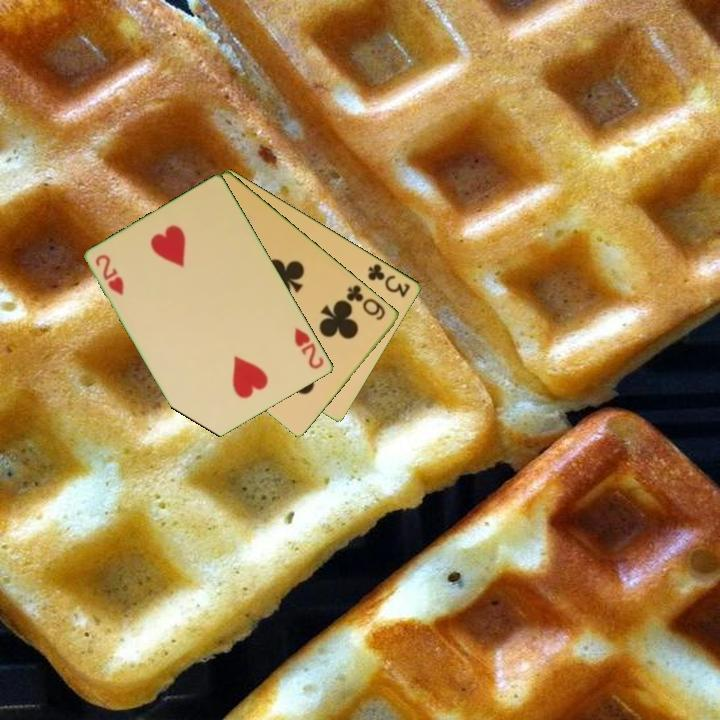2h: (291, 324, 327, 372), (92, 251, 127, 298)
3c: (364, 260, 414, 300)
6c: (343, 281, 389, 323)
